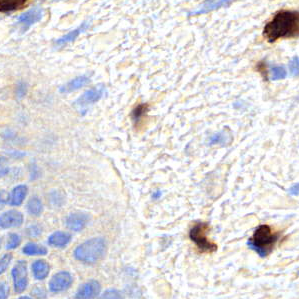Lymphocyte: (248, 224, 275, 255)
